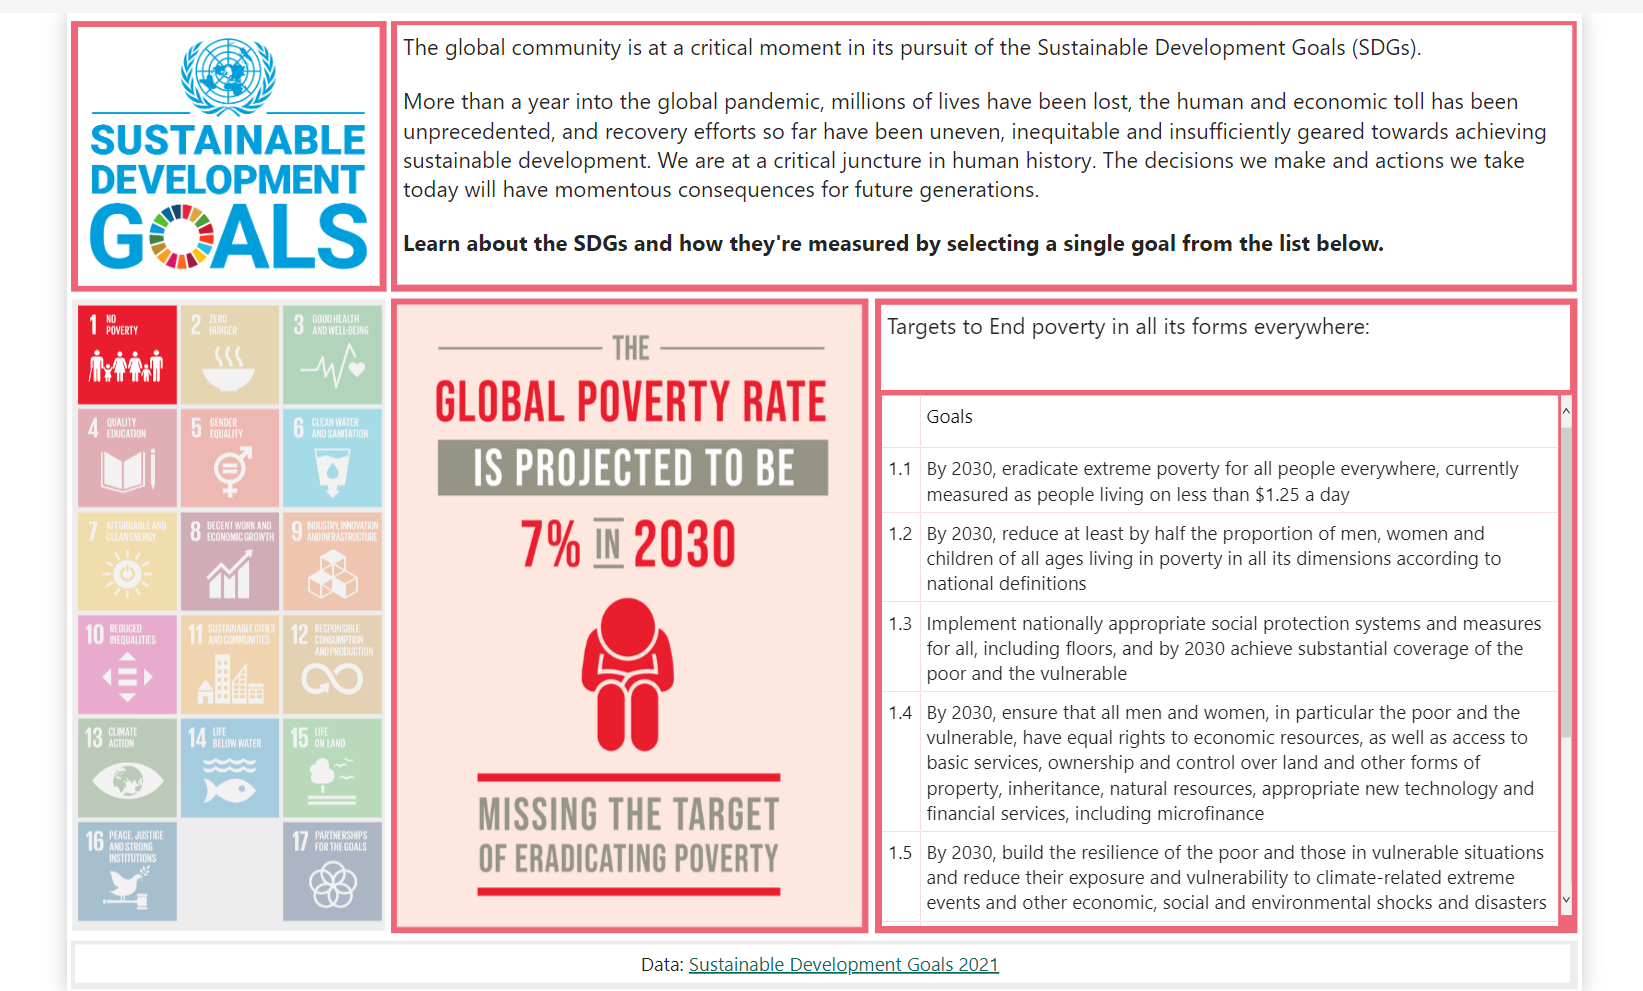

Layout of this report page (visuals, bound fields, positions):
{"tool":"powerbi","page":{"name":"Sustainable Development Goals 2021","canvas":[1280,830],"ordinal":0},"visuals":[{"type":"tableEx","fields":{"Values":["SDGs and Indicators.Goal/Target #","SDGs and Indicators.Goal/Target Text"]},"box":[682,318.2,593.7,457.8],"z":0,"group":"g1"},{"type":"shape","box":[682.1,240.6,593.7,536.4],"z":0},{"type":"textbox","box":[687.6,246,582.3,72.2],"z":1000,"group":"g1"},{"type":"shape","box":[3.1,783,1273.1,41.3],"z":1000},{"type":"shape","box":[273.9,6.9,1001.9,228.4],"z":2000},{"type":"textbox","box":[6.9,786.8,1263.2,32.1],"z":3000},{"type":"image","box":[2.7,6.8,266.7,228.5],"z":4000},{"type":"textbox","box":[278.3,10.7,993,219.5],"z":5000},{"type":"pbiCollageE166DE34940E43CA8FC3A9C1A52231D4","fields":{"post":["dimImage.Image"]},"box":[2.7,241.4,266.7,535.4],"z":6000},{"type":"simpleImageEBC4593F96F1425FB3D84C5BF02B5075","fields":{"imageURL":["dimImage.Alternate Image"]},"box":[273.8,240.6,403.3,536.4],"z":7000},{"type":"group","id":"g1","title":"Group 1","box":[682,246,593.7,530],"z":8000},{"type":"textbox","box":[278,245,993,528],"z":10000},{"type":"textbox","box":[792.5,293.6,454.3,454.3],"z":12000},{"type":"image","box":[278.1,244.8,523.6,526.4],"z":12250},{"type":"actionButton","box":[7.1,246.2,262.5,530],"z":12500}]}

Visuals, with their boxes in screenshot pixels (x1, y1, x2, y2):
tableEx - SDGs and Indicators.Goal/Target # x SDGs and Indicators.Goal/Target Text: box(869, 384, 1569, 924)
shape: box(869, 292, 1569, 925)
textbox: box(875, 299, 1562, 384)
shape: box(68, 932, 1569, 981)
shape: box(387, 17, 1569, 286)
textbox: box(72, 937, 1562, 974)
image: box(67, 17, 382, 286)
textbox: box(392, 21, 1564, 280)
pbiCollageE166DE34940E43CA8FC3A9C1A52231D4 - dimImage.Image: box(67, 293, 382, 925)
simpleImageEBC4593F96F1425FB3D84C5BF02B5075 - dimImage.Alternate Image: box(387, 292, 863, 925)
"Group 1" group: box(869, 299, 1569, 924)
textbox: box(392, 298, 1563, 920)
textbox: box(999, 355, 1535, 891)
image: box(392, 297, 1010, 918)
actionButton: box(72, 299, 382, 924)
